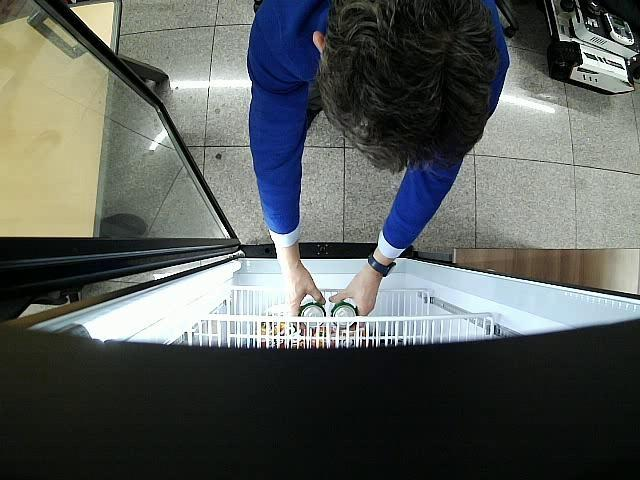12_chilsungCider: (298, 303, 325, 330), (331, 302, 358, 328)
